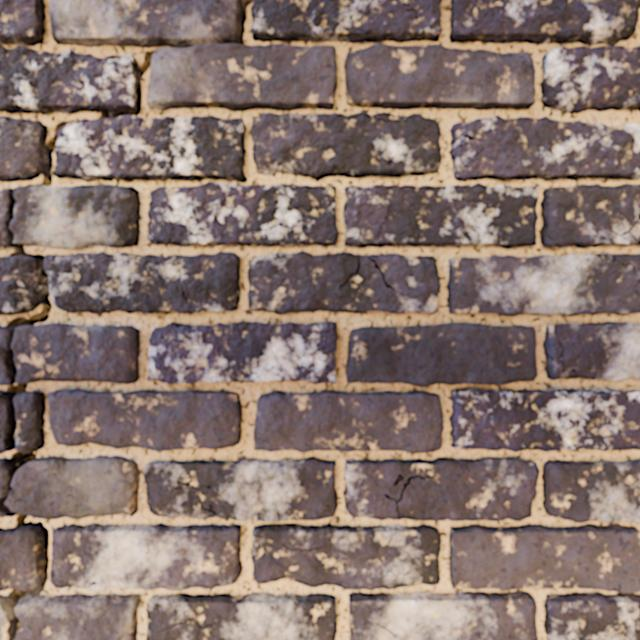broken_brick: (0, 184, 140, 248), (0, 455, 139, 519), (0, 323, 139, 385), (15, 593, 139, 639), (13, 391, 45, 452), (0, 391, 11, 453), (0, 608, 7, 639), (0, 595, 11, 604), (0, 512, 10, 517)
crack: (0, 0, 441, 186), (349, 459, 639, 639), (0, 190, 240, 327), (449, 0, 639, 113), (50, 523, 242, 591), (143, 456, 337, 522), (344, 43, 535, 110), (251, 523, 441, 590), (343, 183, 537, 248), (250, 112, 441, 178), (343, 457, 539, 521), (449, 115, 639, 181), (346, 322, 537, 387), (146, 182, 338, 246), (449, 388, 639, 452), (247, 251, 440, 314), (48, 389, 242, 451), (147, 321, 337, 384), (447, 253, 639, 315), (253, 390, 443, 452), (146, 592, 337, 639), (0, 486, 49, 639), (540, 183, 639, 248), (543, 321, 639, 382), (5, 383, 27, 450), (7, 450, 36, 483), (5, 329, 17, 382), (128, 187, 134, 199)
